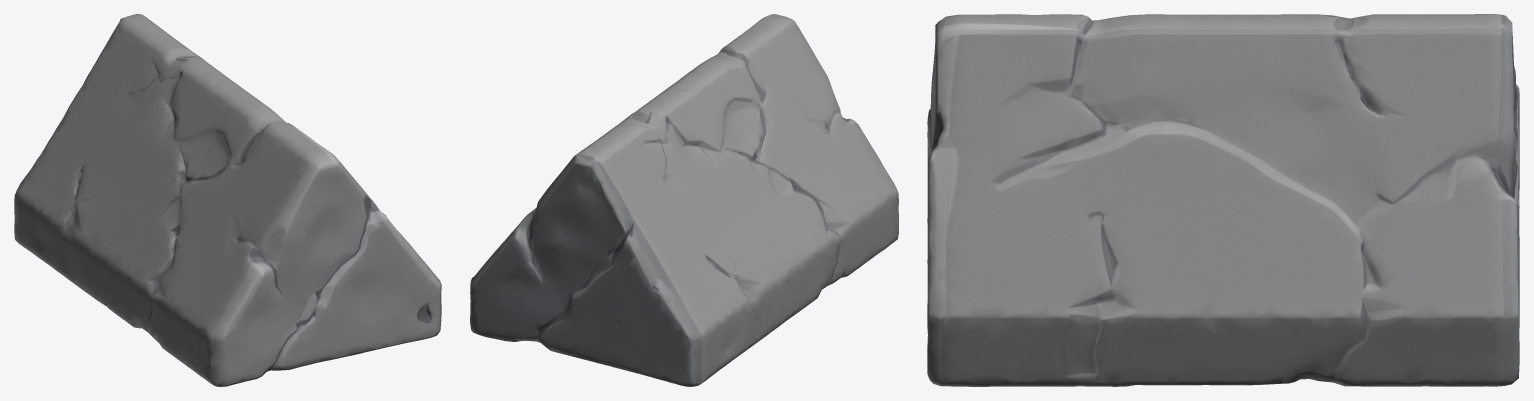
The model's file is Env_WedgeRock_Grey.fbx.
3 views of the same model, side by side, from view 1: azimuth 30°, elevation 25°; view 2: azimuth 150°, elevation 25°; view 3: azimuth 270°, elevation 25° (orthographic). The views are drawn at different scales.
Visible parts, largest first — view 1: texture_mapping; view 2: texture_mapping; view 3: texture_mapping.
Boxes of the visible parts, <box> form: texture_mapping: <box>14,14,441,386</box>; texture_mapping: <box>470,14,898,386</box>; texture_mapping: <box>927,14,1519,386</box>.
Size of the model in its own units: 0.6487 by 1 by 0.5424.
Materials: 1 (1 with a texture image).
